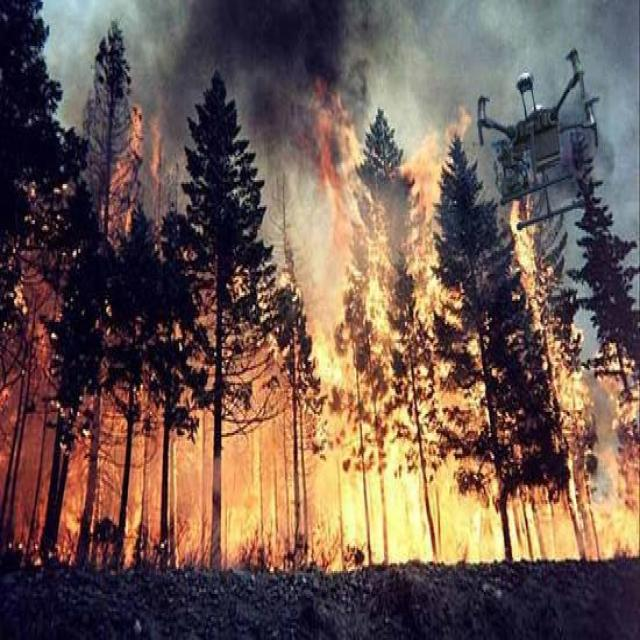fire: (8, 87, 633, 571)
smoke: (121, 1, 410, 140)
